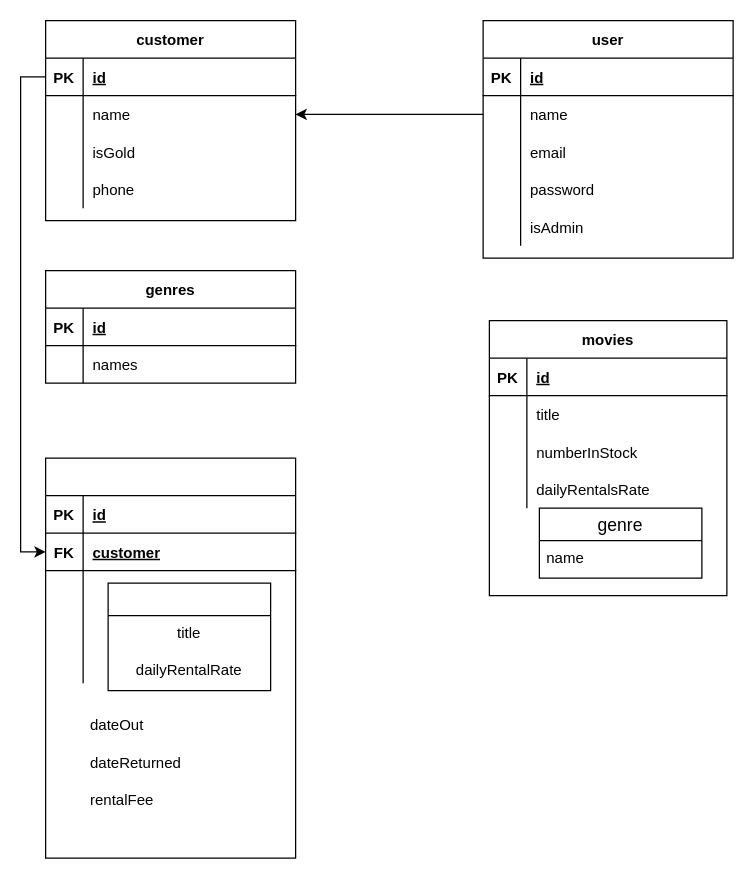
This 754x879 diagram has some shape labels left out. Each missing label, with the box of its shape:
movie: (107, 582, 271, 691)
rentals: (44, 457, 296, 858)
